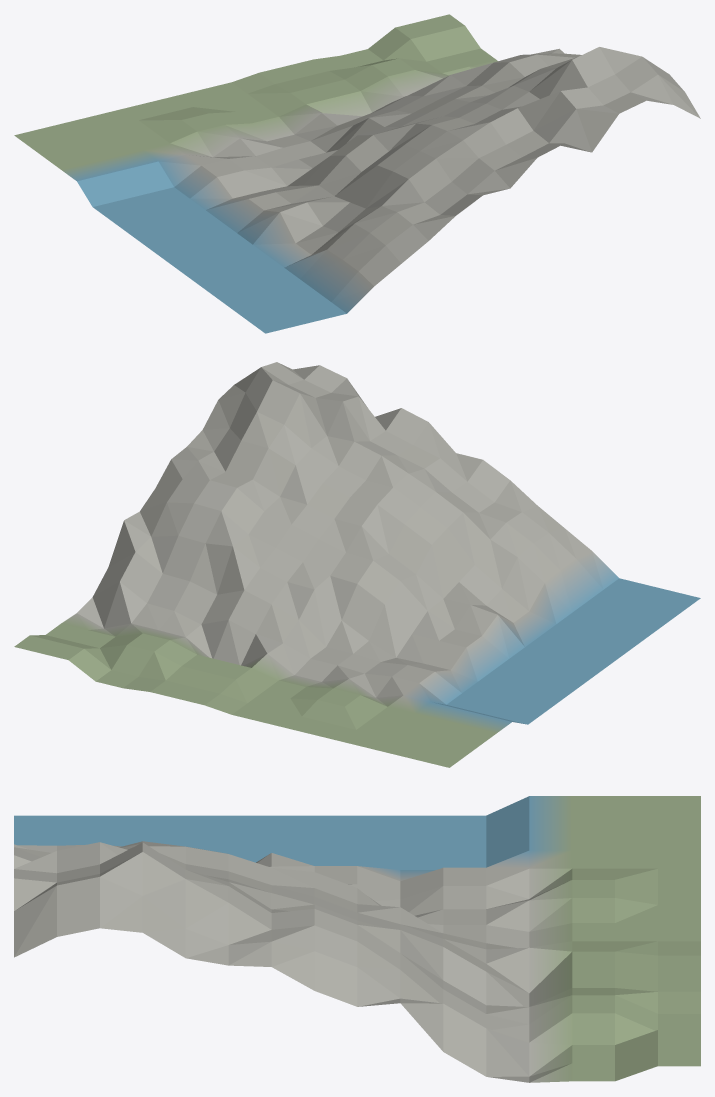
3 renders of one model, top to bottom at view 1: azimuth 30°, elevation 25°; view 2: azimuth 150°, elevation 25°; view 3: azimuth 270°, elevation 25°, orthographic. The views are drawn at different scales.
Size of the model in its own units: 32 by 11.19 by 32.
